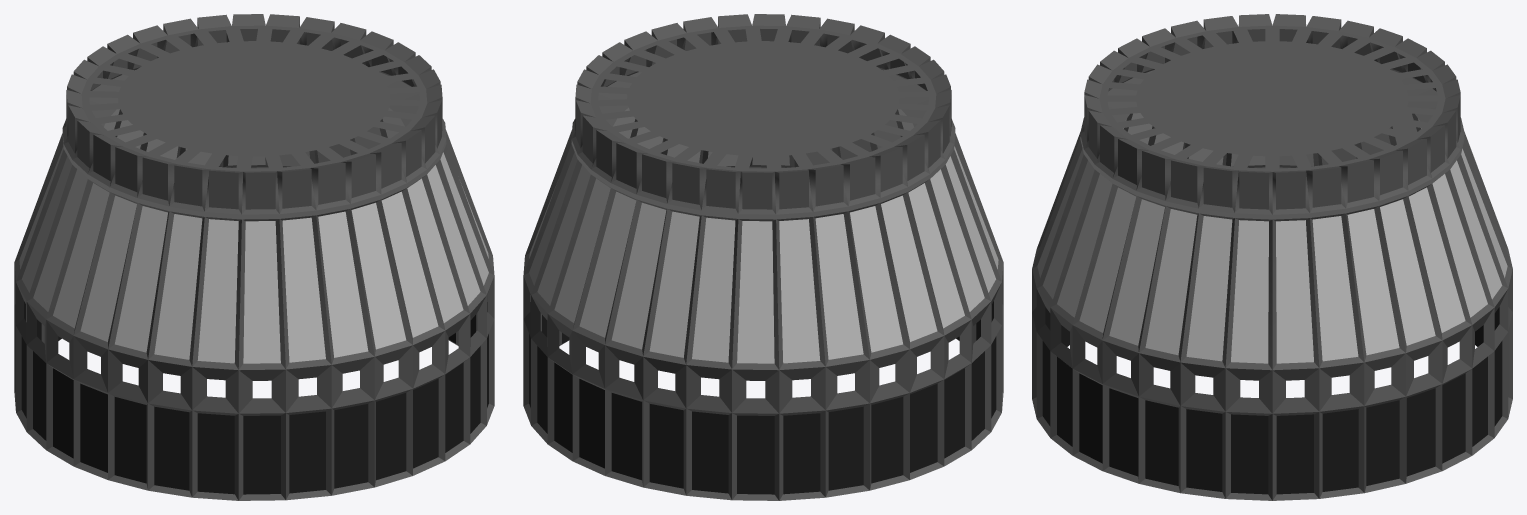
File: ads-400.dae
The picture shows the model from 3 angles, left to right: view 1: azimuth 30°, elevation 25°; view 2: azimuth 150°, elevation 25°; view 3: azimuth 270°, elevation 25°; orthographic projection.
Visible parts, largest first — view 1: ADS-400; view 2: ADS-400; view 3: ADS-400.
Boxes of the visible parts, bbox=[...] form: ADS-400: bbox=[14, 14, 494, 500]; ADS-400: bbox=[523, 14, 1003, 500]; ADS-400: bbox=[1032, 14, 1512, 500].
Size of the model in its own units: 8 by 8 by 5.62.
